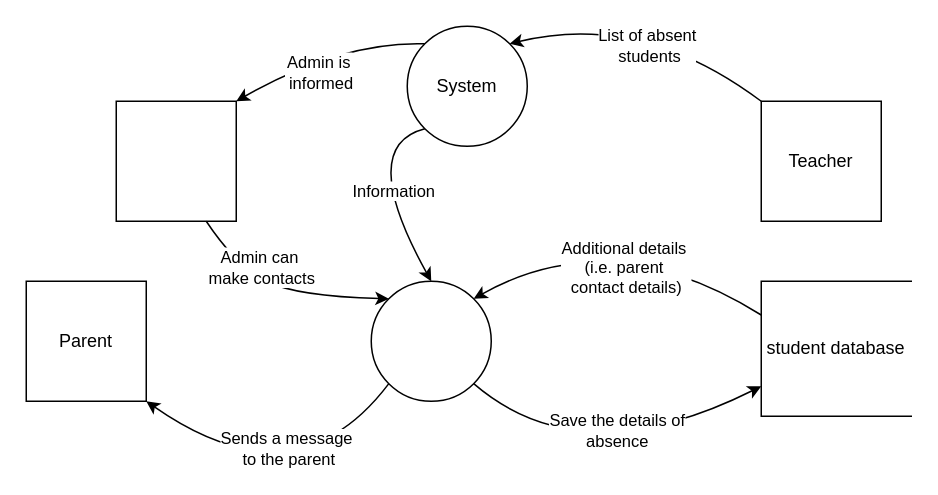
This 938x495 diagram has some shape labels left out. Here are the shapes that lost their labels. From the top down, the centre of each, then its label:
At (x=175, y=160): "Admin".
At (x=430, y=340): "Contact system".
